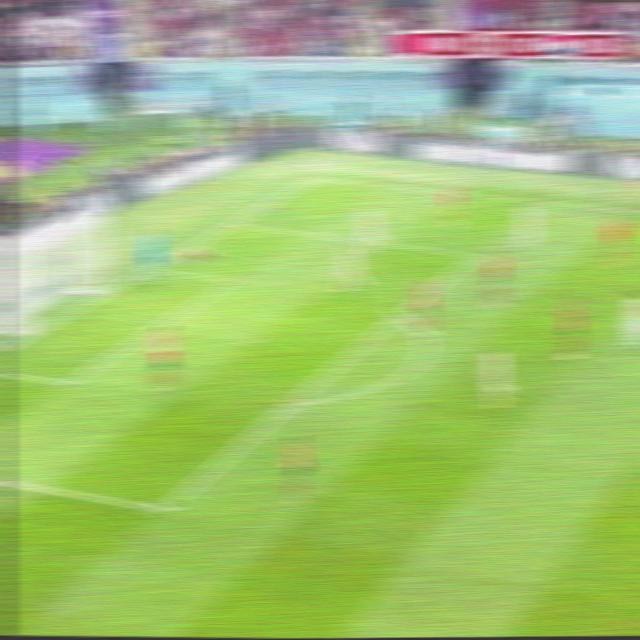bigarea_bottom_inner: (148, 495, 178, 521)
bigarea_top_inner: (463, 244, 486, 264)
bigarea_top_outter: (222, 213, 245, 231)
bottom_arc_area_intersection: (279, 392, 303, 413)
corner: (305, 170, 331, 184)
smallarea_bottom_inner: (53, 368, 82, 395)
smallarea_top_inner: (219, 270, 244, 289)
top_arc_area_intersection: (387, 304, 412, 324)
